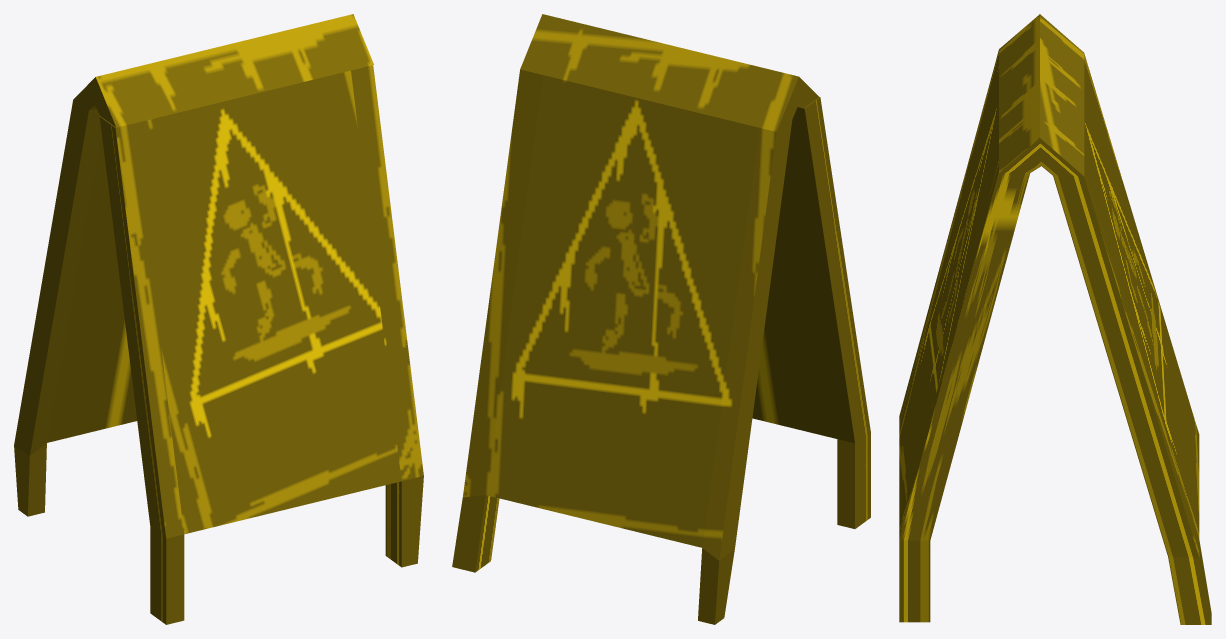
File: WetSign.fbx
3 renders of one model, left to right at view 1: azimuth 30°, elevation 25°; view 2: azimuth 150°, elevation 25°; view 3: azimuth 270°, elevation 25°, orthographic.
Parts seen in each view (by area): view 1: Cube; view 2: Cube; view 3: Cube.
Part boxes in pixels (<box>): Cube: <box>14,14,423,624</box>; Cube: <box>452,14,870,624</box>; Cube: <box>899,14,1211,624</box>.
Bounding box in the file's own units: 241 × 436 × 253.
1 material, 1 textured.
